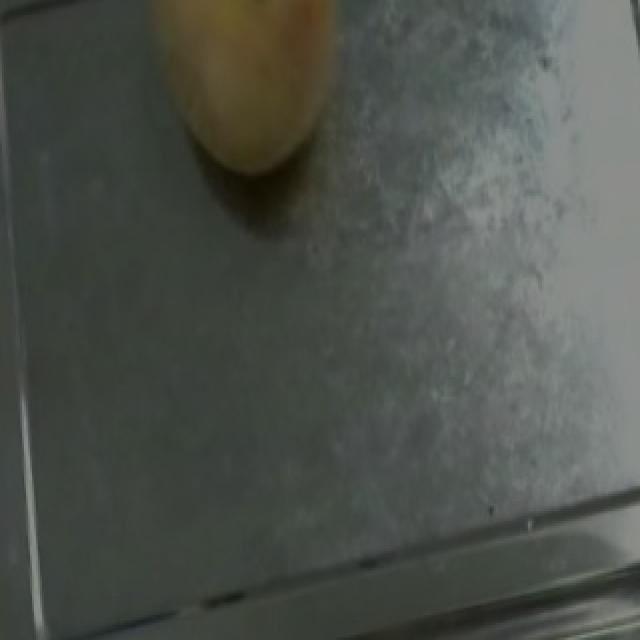Fruit: (116, 0, 386, 201)
